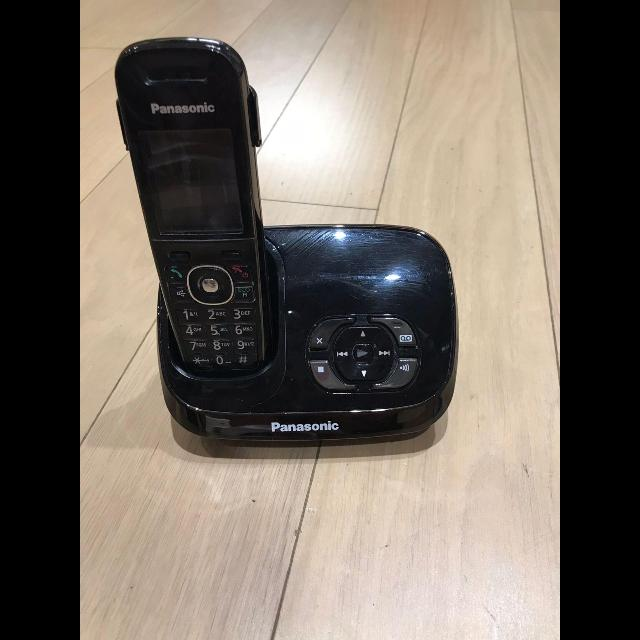Telephone-Set: (111, 29, 521, 459)
